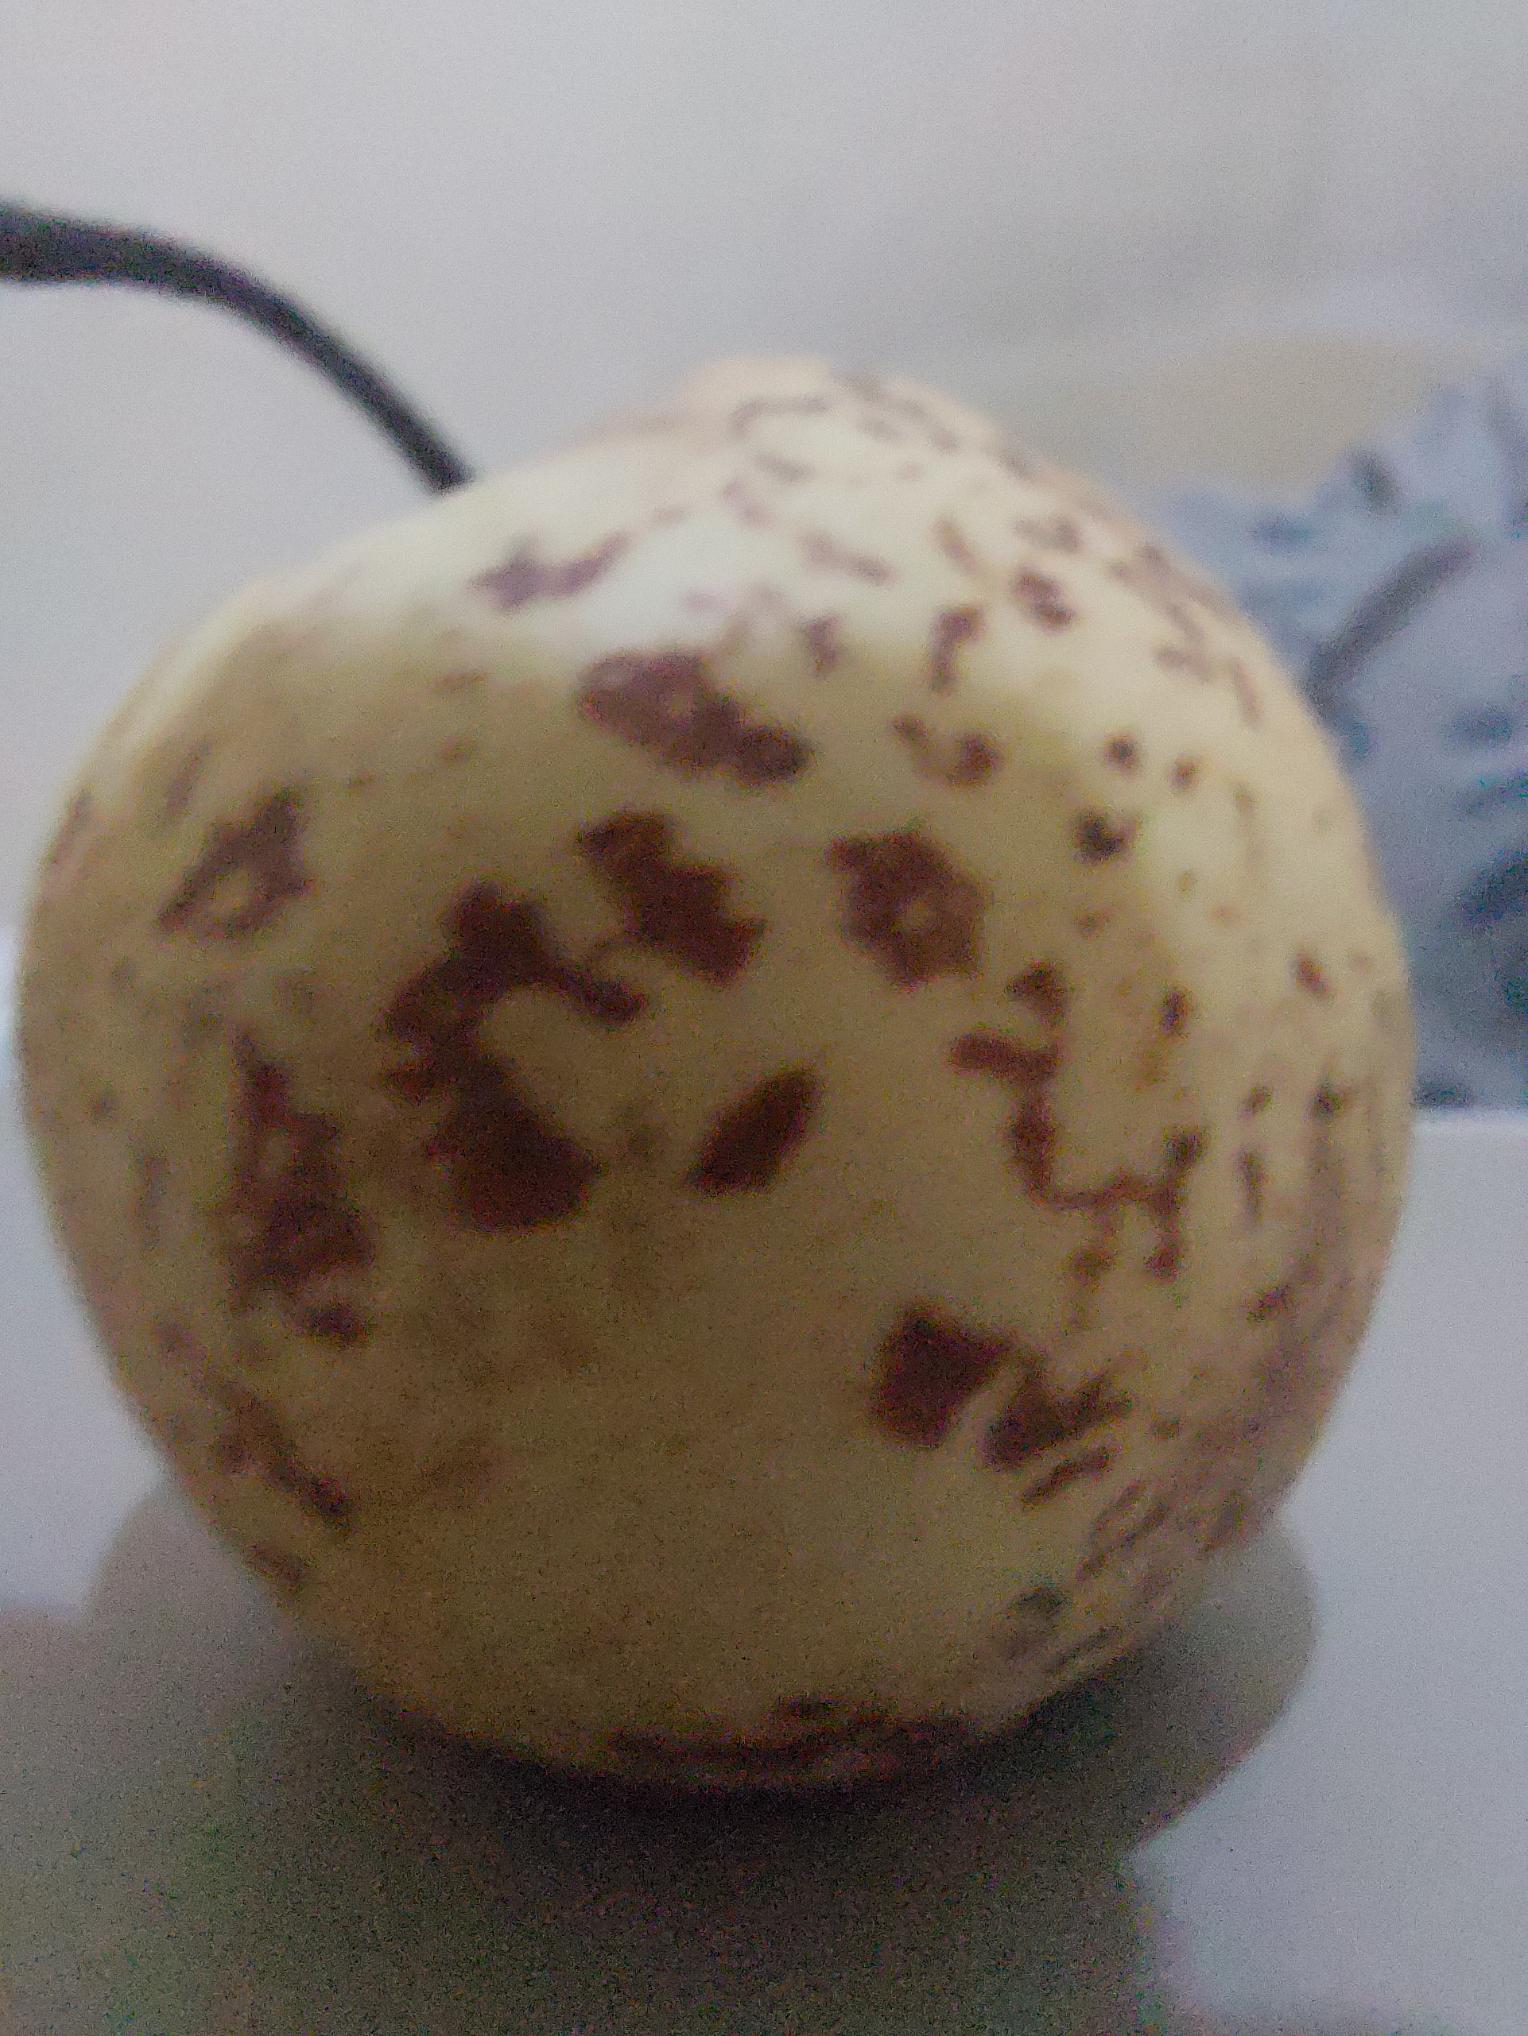Bad Pear: (0, 335, 1412, 1773)
